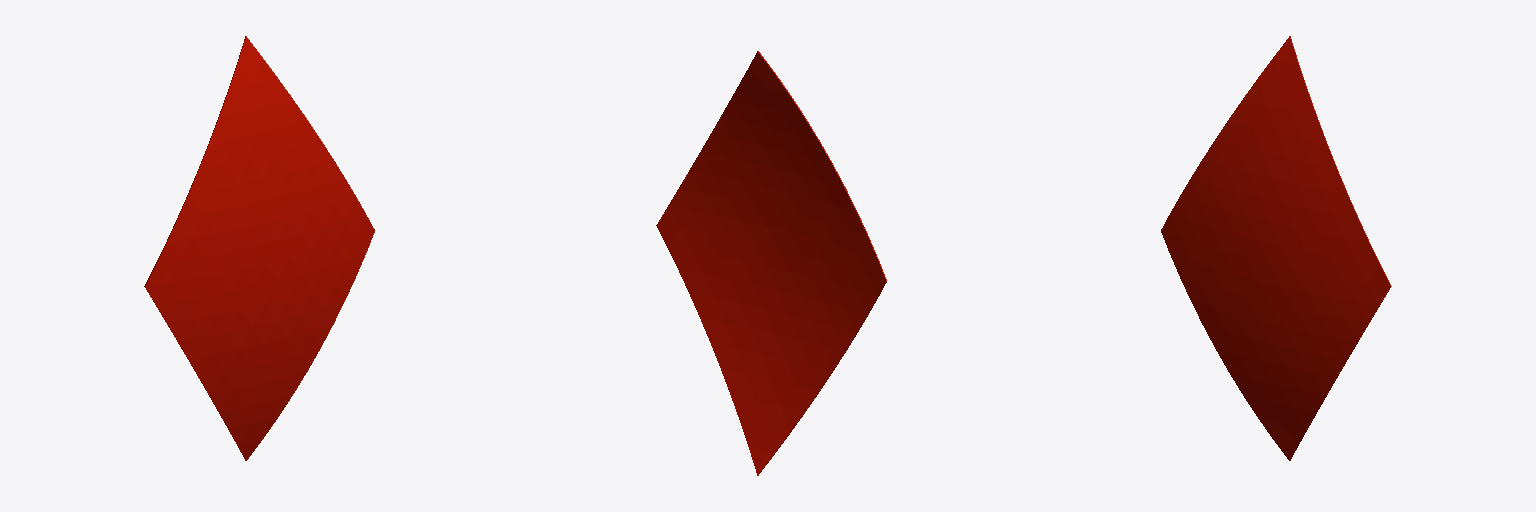
The model's file is diamondsegment.obj.
The picture shows the model from 3 angles: view 1: azimuth 30°, elevation 25°; view 2: azimuth 150°, elevation 25°; view 3: azimuth 330°, elevation 25°; orthographic projection.
Visible parts, largest first — view 1: panel_Icosphere; view 2: panel_Icosphere; view 3: panel_Icosphere.
Boxes of the visible parts, x1=… form: panel_Icosphere: x1=144, y1=36, x2=374, y2=460; panel_Icosphere: x1=656, y1=51, x2=886, y2=475; panel_Icosphere: x1=1161, y1=36, x2=1391, y2=460.
Size of the model in its own units: 0.3793 by 0.6689 by 0.0595.